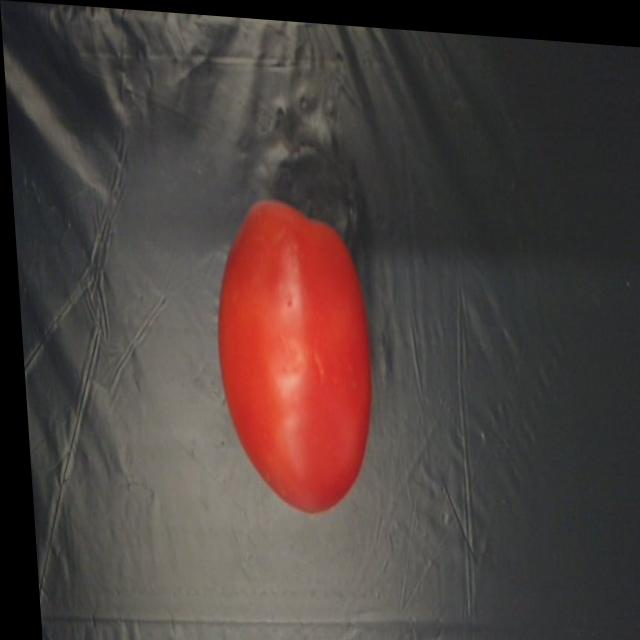kirmizi: (197, 173, 391, 539)
